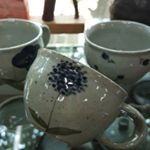cups: (21, 46, 149, 150), (82, 19, 150, 95), (1, 17, 54, 84)
